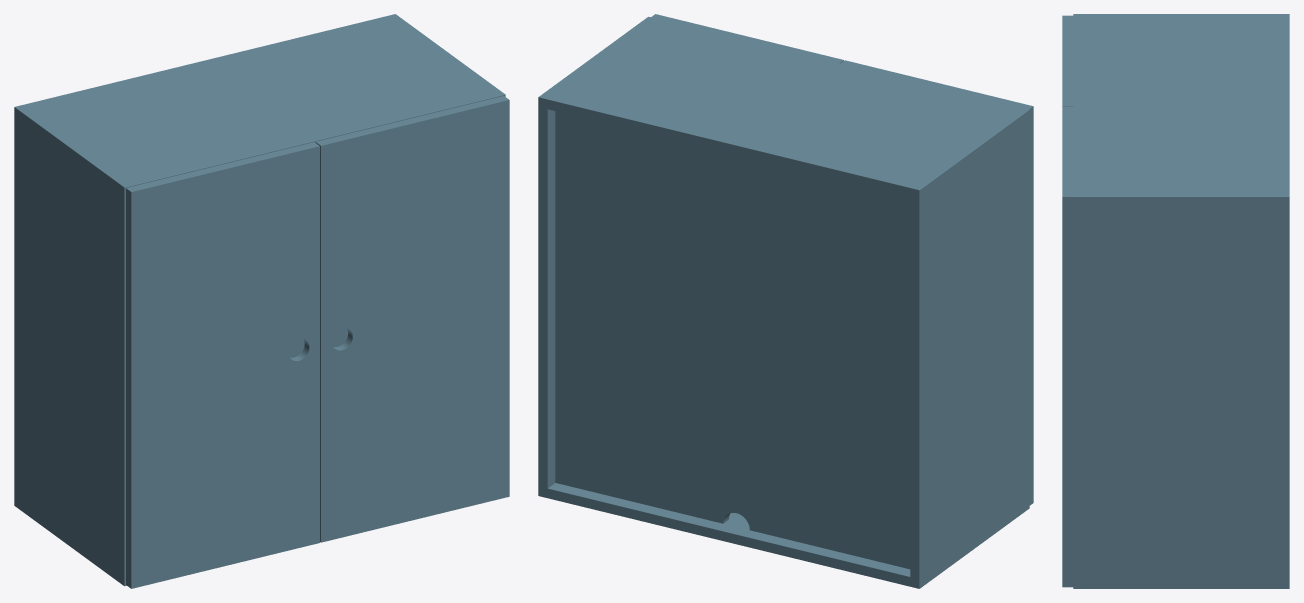
The model's file is MOD-2X2-DD-B.AP-AC.glb.
3 renders of one model, left to right at view 1: azimuth 30°, elevation 25°; view 2: azimuth 150°, elevation 25°; view 3: azimuth 270°, elevation 25°, orthographic.
Size of the model in its own units: 720 by 720 by 378.
